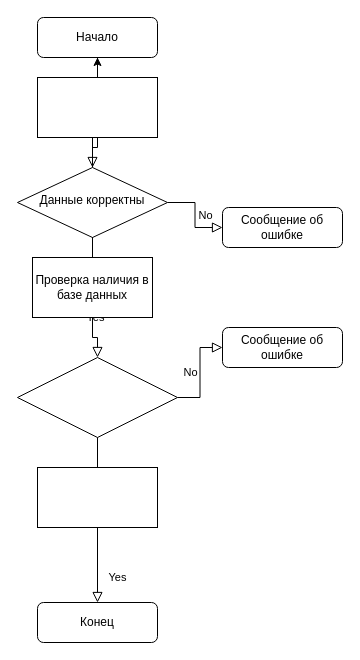
Some shapes in this 360 by 660 pixel diagram are drawn without their labels. Each missing label, with the box of its shape:
Вывод сообщения предзаказ отменен: (36, 466, 158, 528)
Данные в наличии: (16, 356, 178, 438)
Пользователь нажал кнопку отменить бронирование: (36, 76, 158, 138)
